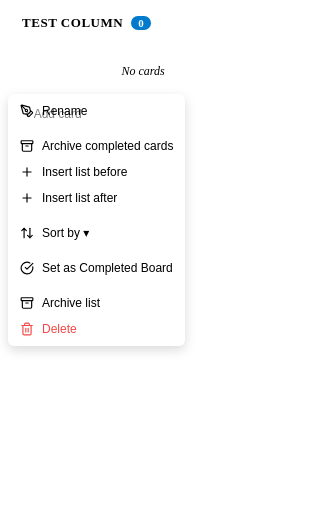
Test: Column › toggles sort menu on click
// Menu is open, find and click Sort by button
Click the button "Sort by ▾": [97, 233] box [8, 220, 185, 246]
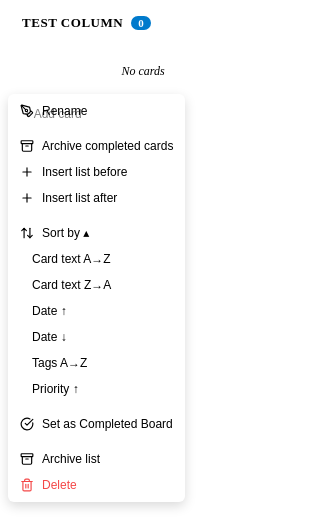
Now the button "Card text A→Z" is shown, box [20, 246, 185, 272]
